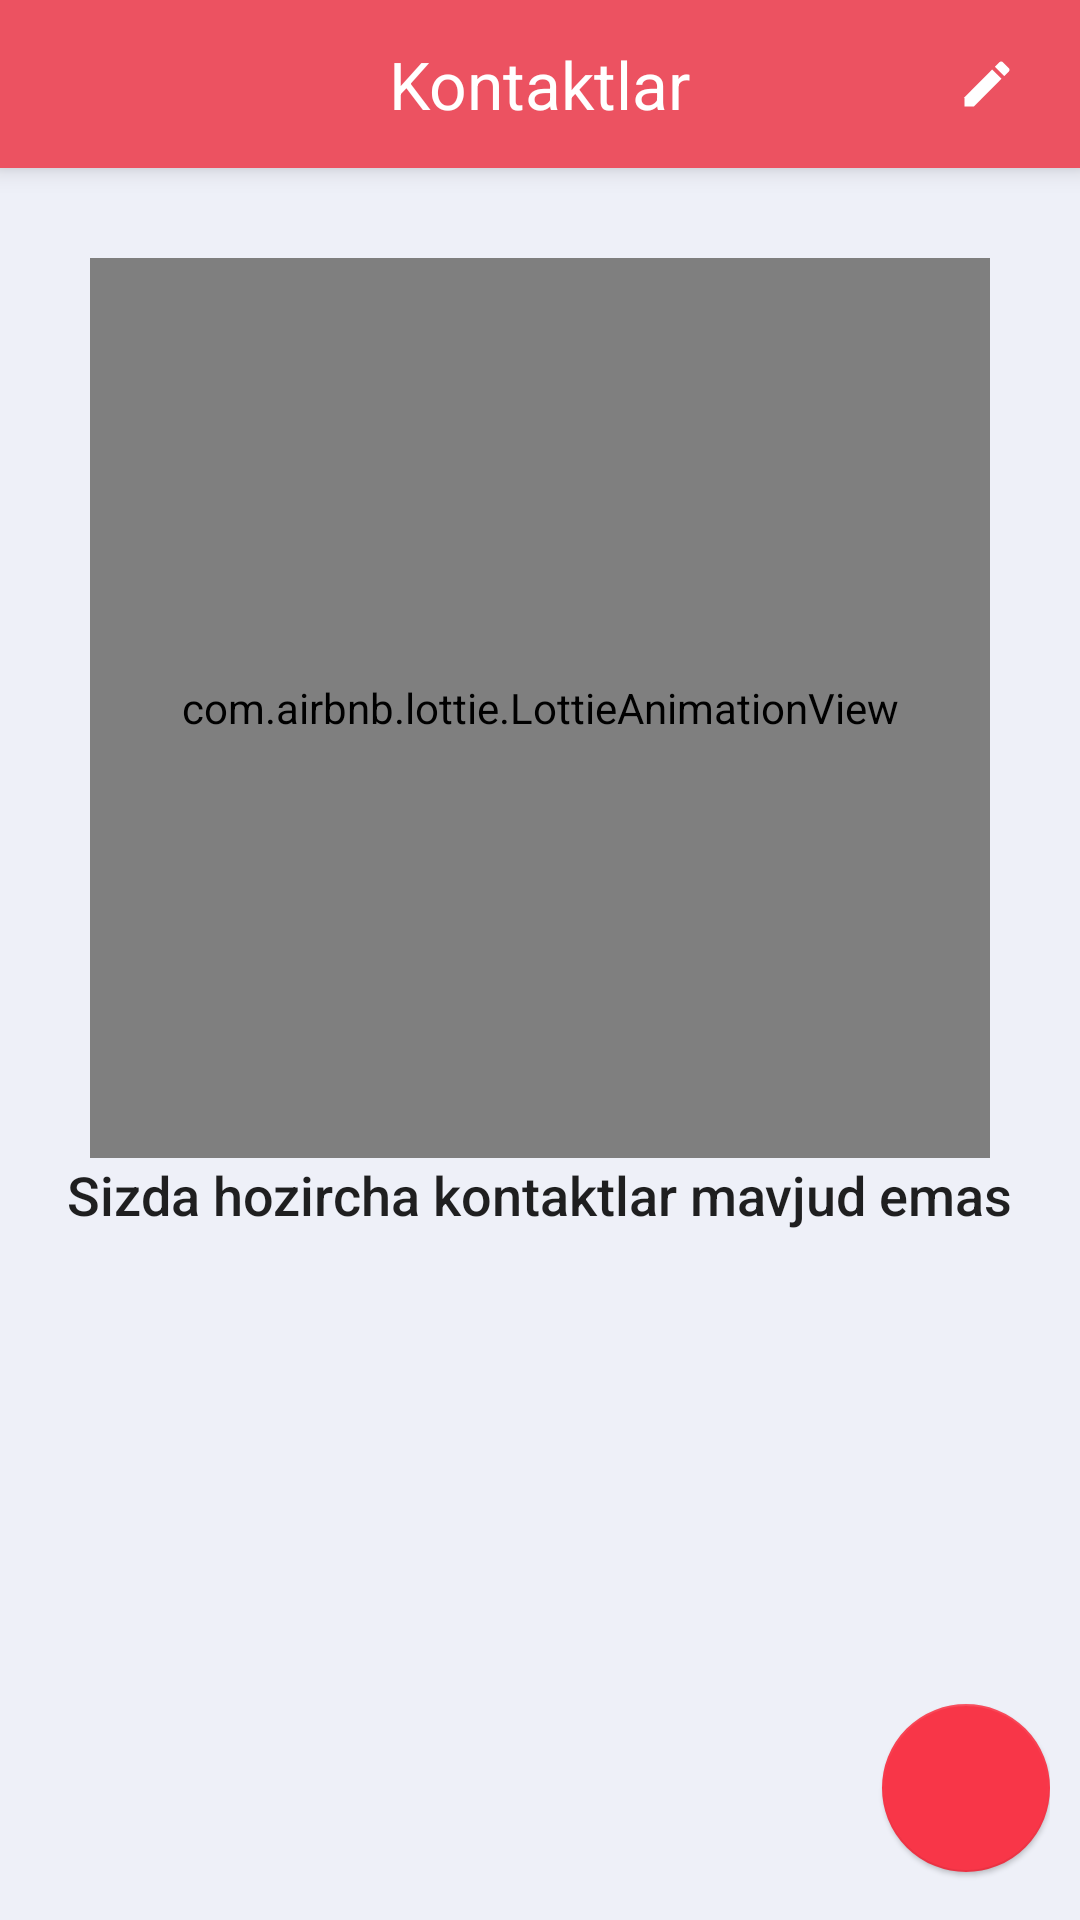

Locate icon controls on the screen. Image size 1080w x 1920h, boxes as bbox=(x1, y1, x2, y2).
edit: bbox=(964, 61, 1010, 107)
